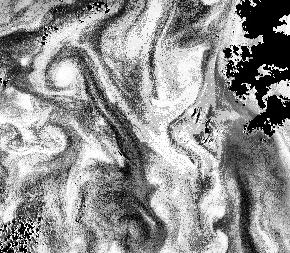CE: (28, 36, 96, 102)
